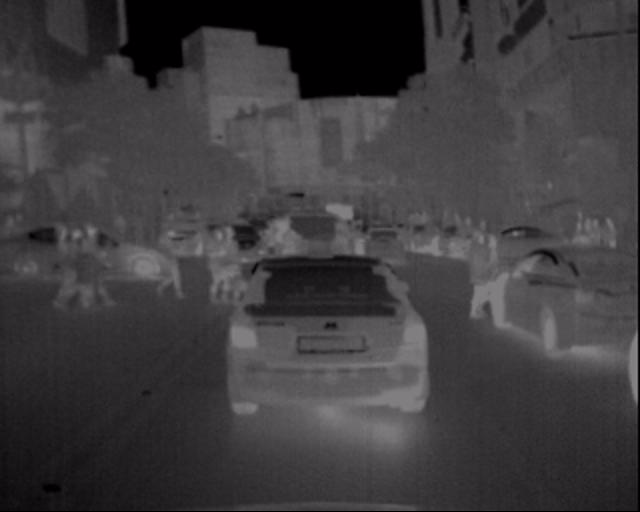person: (41, 216, 108, 326), (41, 221, 89, 322), (206, 218, 257, 313), (150, 217, 198, 306), (459, 222, 504, 316), (472, 223, 511, 327), (271, 208, 308, 314), (198, 221, 237, 310), (570, 205, 638, 255), (75, 219, 111, 312), (326, 215, 361, 301)
